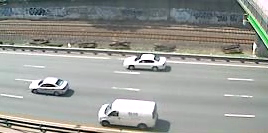car: (96, 96, 163, 133), (120, 51, 169, 76), (28, 76, 71, 98)
